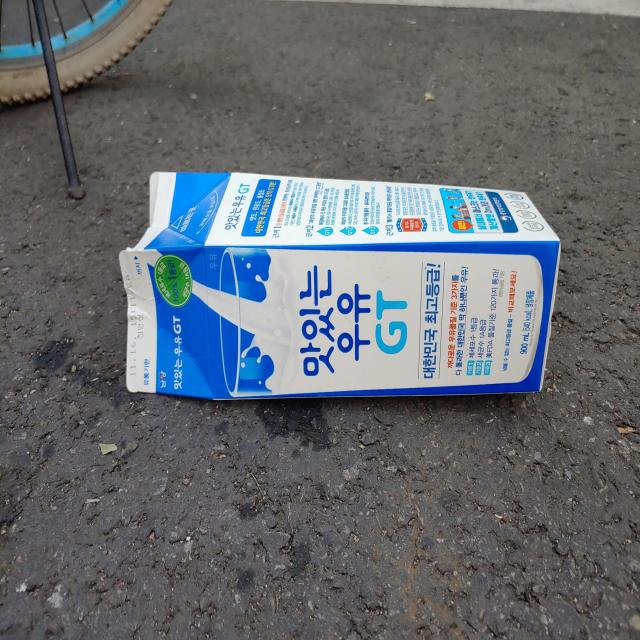paperpack: (119, 172, 561, 400)
